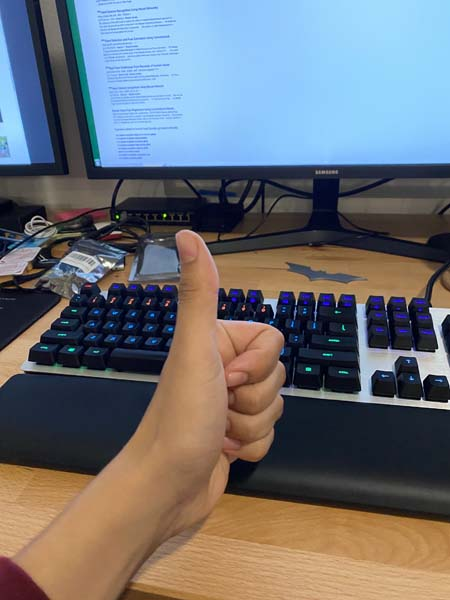Thumbs Up: (135, 222, 301, 547)
